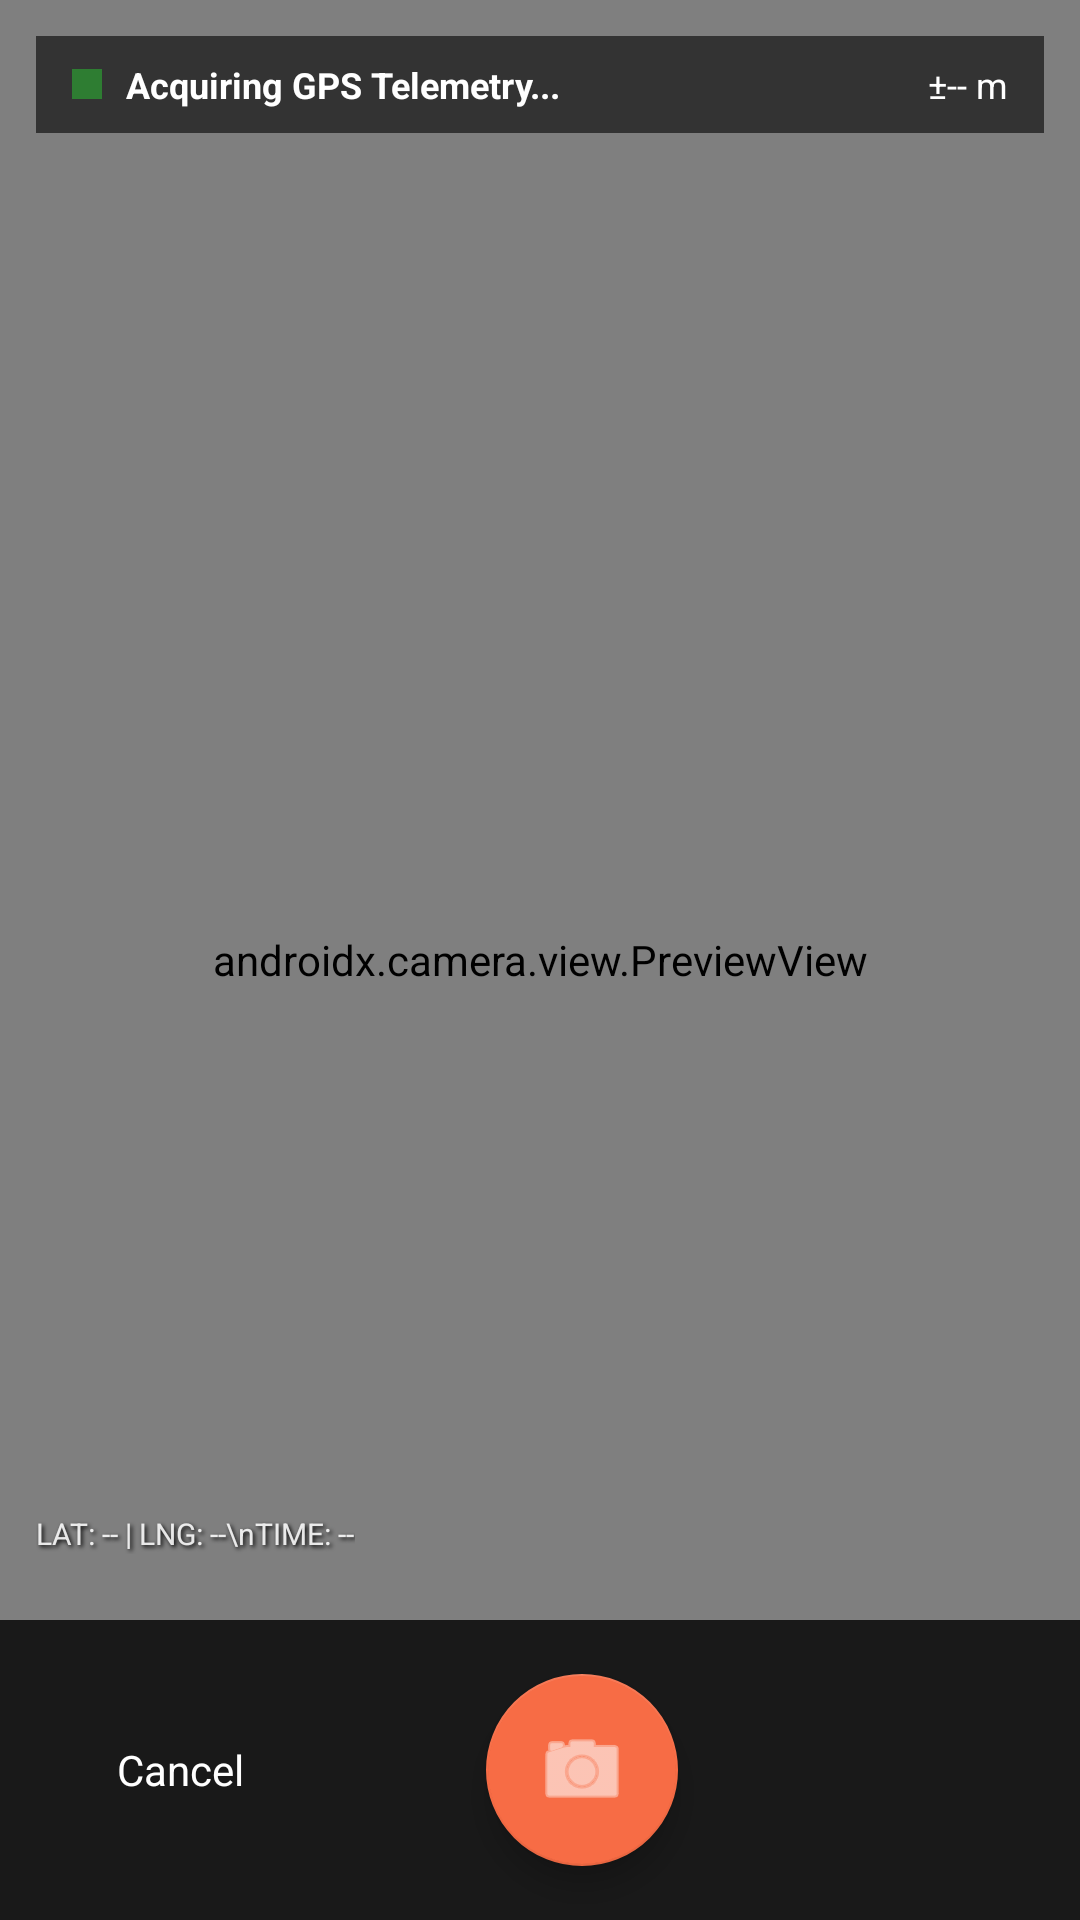

Named icons in this screenshot (1080×1920) and their centers, (x,y):
Capture Evidence: (582,1770)
